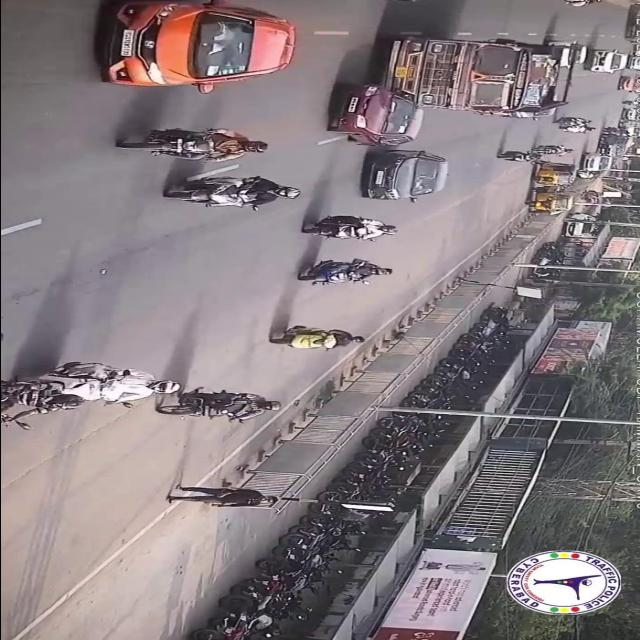accident: (329, 32, 589, 146)
non_accident: (578, 127, 633, 180), (553, 115, 603, 137)
